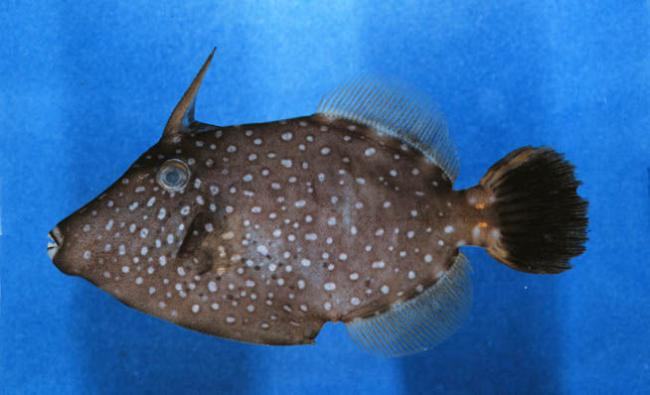fish: (45, 46, 590, 350)
